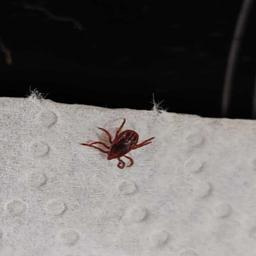Rhipicephalus sanguineus: (80, 117, 154, 170)
